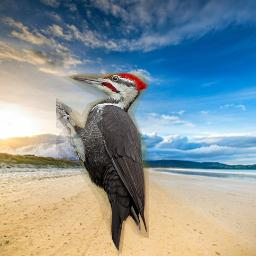Woodpecker: (56, 73, 149, 256)
